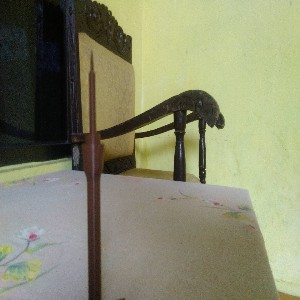solder: (80, 48, 104, 300)
